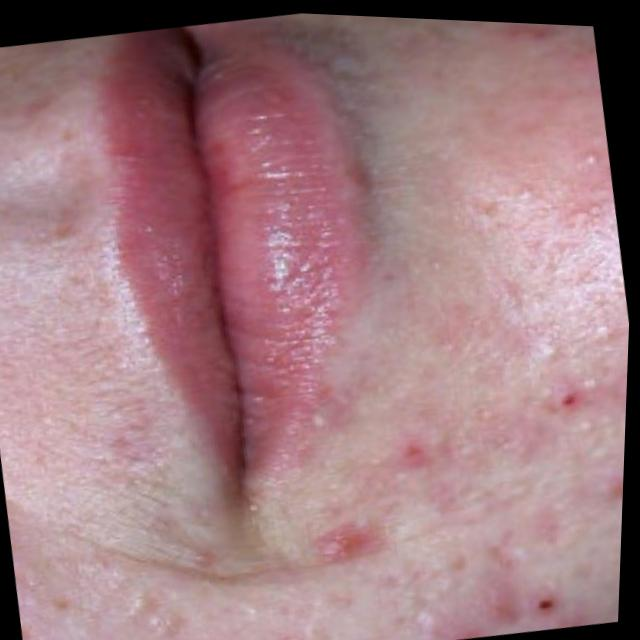Acne: (0, 296, 629, 640)
